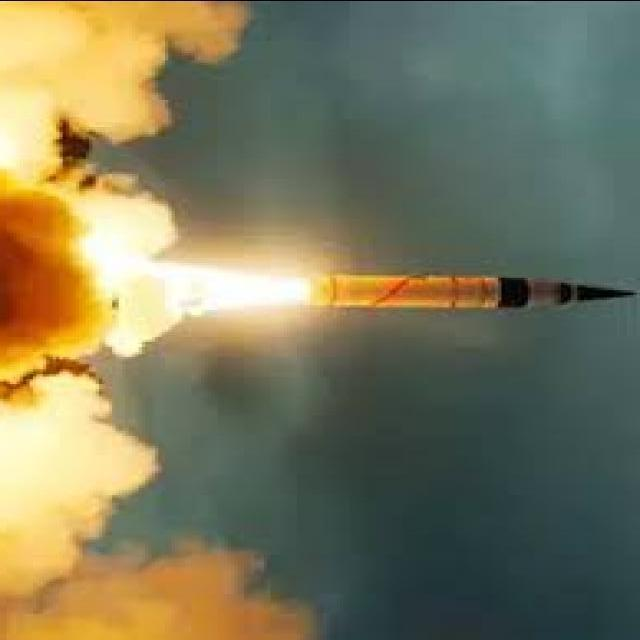missile: (290, 262, 640, 322)
